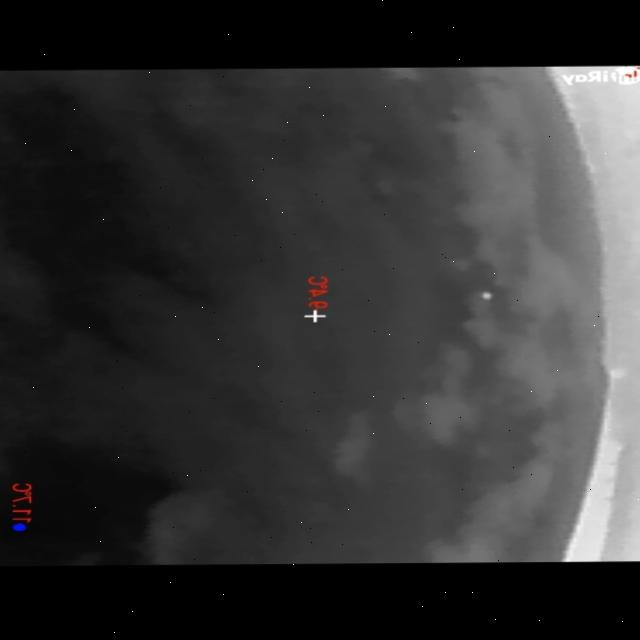drone: (478, 292, 496, 302)
